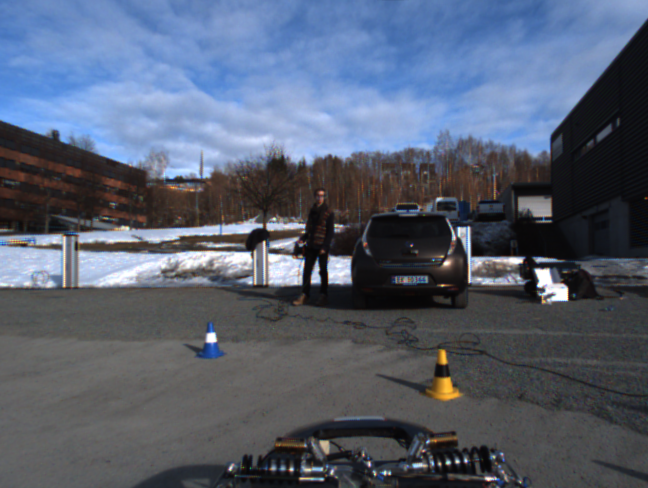cone-small-blue: (195, 320, 226, 359)
cone-small-yellow: (423, 349, 463, 401)
